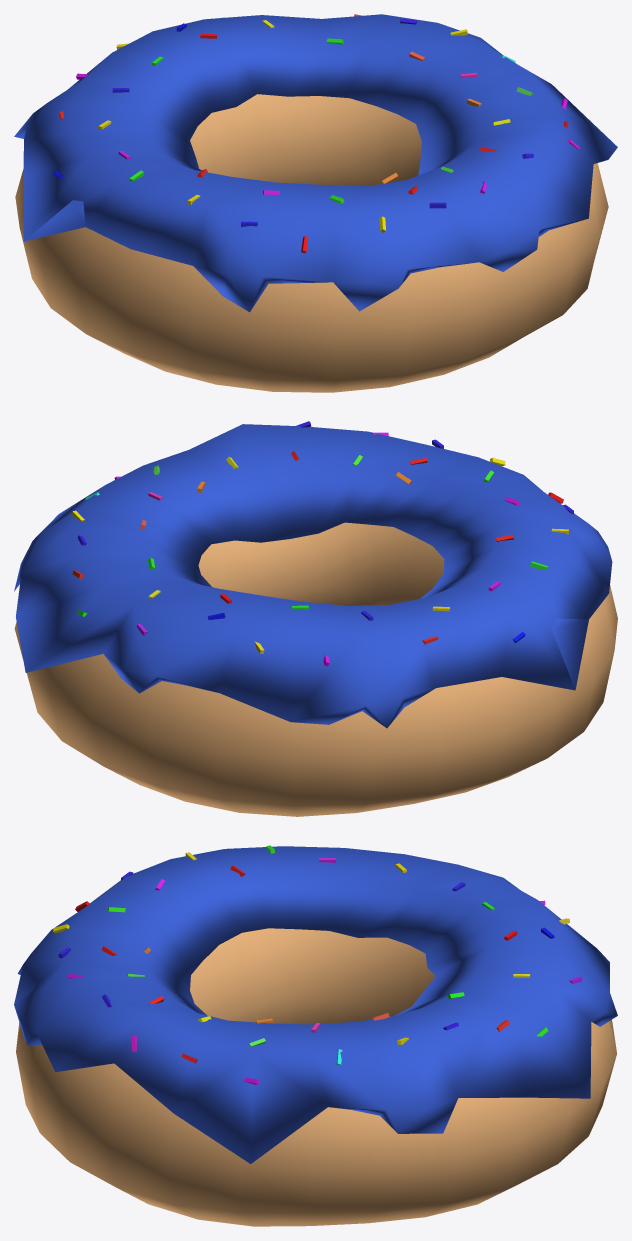
Rendered from Lowpoly-Donut-Blue.fbx.
The picture shows the model from 3 angles, top to bottom: view 1: azimuth 30°, elevation 25°; view 2: azimuth 150°, elevation 25°; view 3: azimuth 270°, elevation 25°; orthographic projection. The views are drawn at different scales.
Parts seen in each view (by area): view 1: Icing, Donut; view 2: Icing, Donut; view 3: Icing, Donut.
Part boxes in pixels (left/top/right/bottom): Icing: left=14, top=14, right=617, bottom=312; Donut: left=15, top=94, right=608, bottom=392; Icing: left=14, top=424, right=612, bottom=728; Donut: left=14, top=522, right=617, bottom=816; Icing: left=14, top=846, right=617, bottom=1163; Donut: left=16, top=928, right=616, bottom=1226.
Size of the model in its own units: 15.15 by 5.03 by 14.23.
